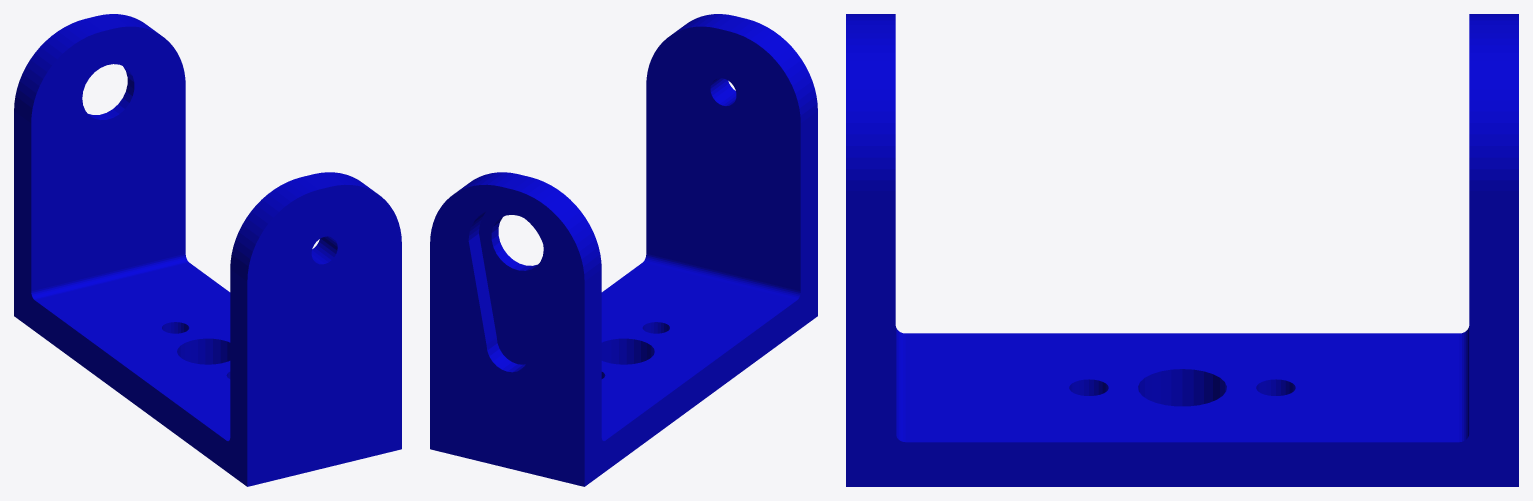
File: headPanBracket.dae
The picture shows the model from 3 angles, left to right: view 1: azimuth 30°, elevation 25°; view 2: azimuth 150°, elevation 25°; view 3: azimuth 270°, elevation 25°; orthographic projection. The views are drawn at different scales.
Visible parts, largest first — view 1: node0; view 2: node0; view 3: node0.
Boxes of the visible parts, bbox=[...] form: node0: bbox=[14, 14, 401, 486]; node0: bbox=[430, 14, 817, 486]; node0: bbox=[846, 14, 1518, 486].
Size of the model in its own units: 26 by 68 by 45.
